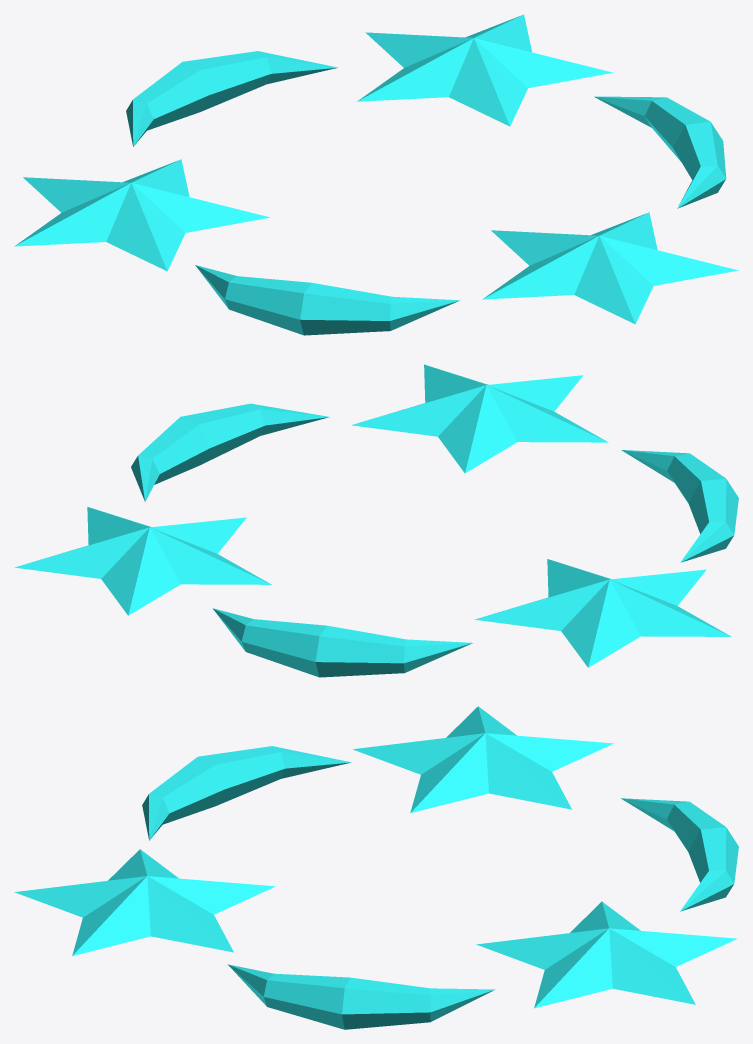
Rendered from Oszolomienie.fbx.
The picture shows the model from 3 angles, top to bottom: view 1: azimuth 30°, elevation 25°; view 2: azimuth 150°, elevation 25°; view 3: azimuth 270°, elevation 25°; orthographic projection.
Visible parts, largest first — view 1: Cylinder; view 2: Cylinder; view 3: Cylinder.
Boxes of the visible parts, box(x1,y1,x2,y2) form: Cylinder: box(14, 14, 738, 335); Cylinder: box(14, 364, 738, 677); Cylinder: box(14, 706, 738, 1029).
Size of the model in its own units: 529 by 41.61 by 525.
